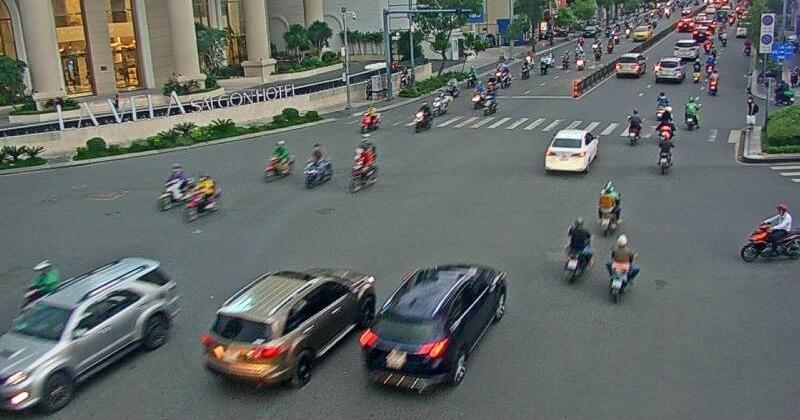xe hoi: (0, 257, 179, 412), (204, 268, 376, 389), (360, 266, 506, 391), (545, 129, 598, 172)
xe may: (739, 203, 800, 264), (604, 234, 639, 304), (560, 217, 593, 286), (598, 180, 621, 236), (656, 131, 675, 176), (360, 104, 382, 134), (626, 109, 644, 145)
